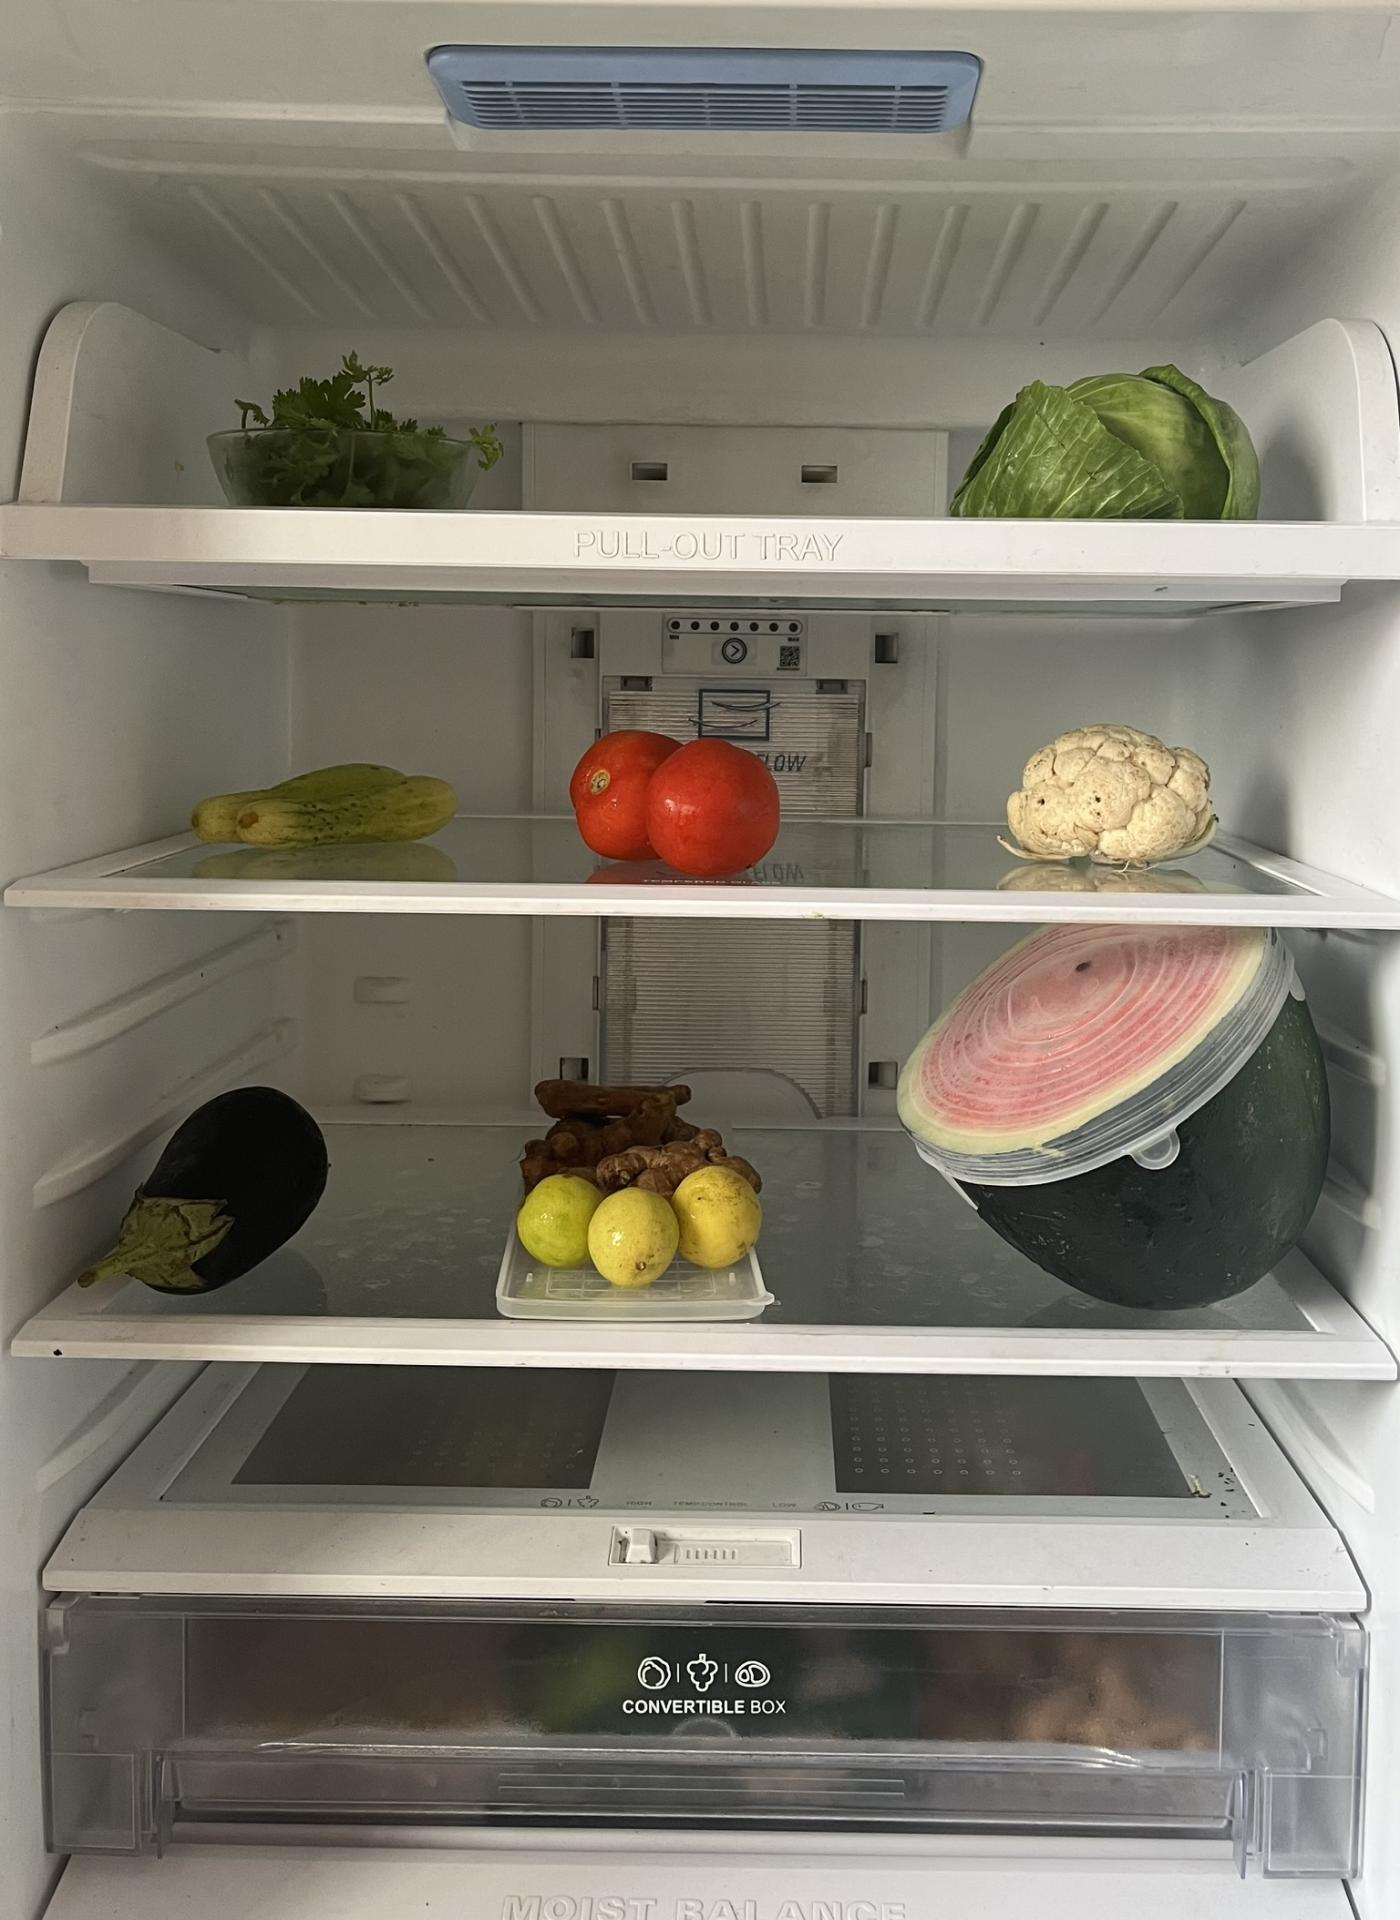cabbage: (960, 353, 1261, 516)
cauliflower: (1009, 729, 1209, 863)
coriander: (198, 356, 483, 499)
cucumber: (200, 756, 465, 847)
ginger: (526, 1060, 741, 1175)
lemon: (522, 1172, 762, 1278)
watermelon: (905, 924, 1331, 1312)
